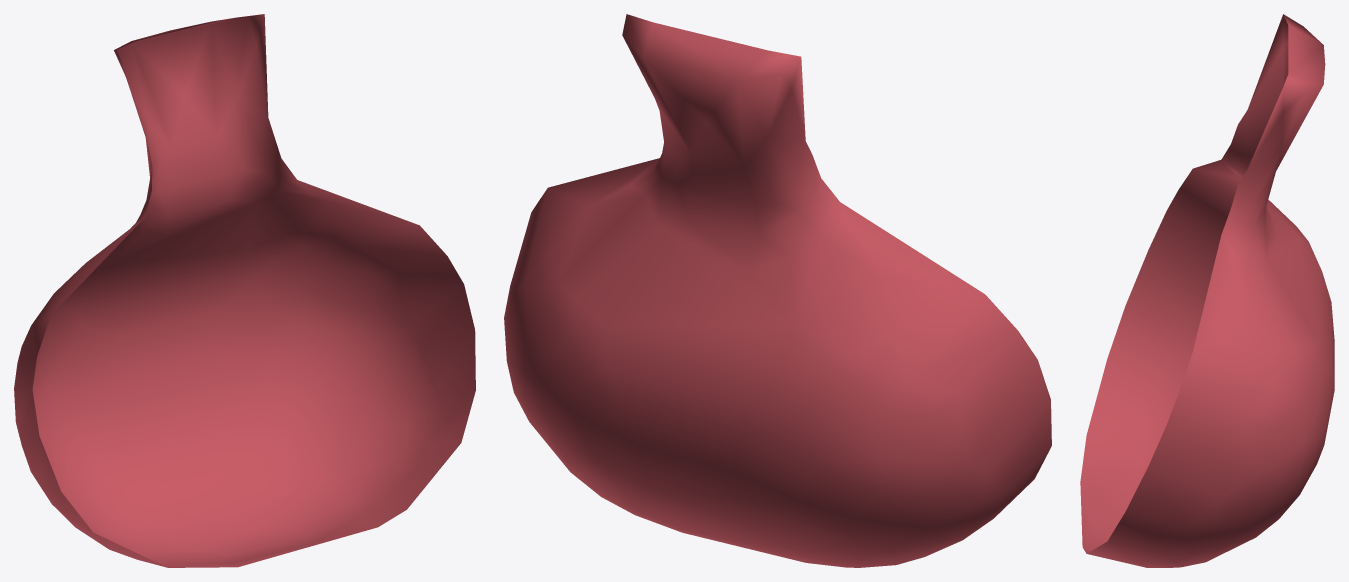
Rendered from visceras-neurohypophysis.glb.
3 renders of one model, left to right at view 1: azimuth 30°, elevation 25°; view 2: azimuth 150°, elevation 25°; view 3: azimuth 270°, elevation 25°, orthographic. The views are drawn at different scales.
Visible parts, largest first — view 1: Neurohypophysis; view 2: Neurohypophysis; view 3: Neurohypophysis.
Boxes of the visible parts, box(x1,y1,x2,y2) form: Neurohypophysis: box(14, 14, 475, 567); Neurohypophysis: box(504, 14, 1051, 567); Neurohypophysis: box(1080, 14, 1334, 567).
Size of the model in its own units: 0.0117 by 0.0121 by 0.00582.
